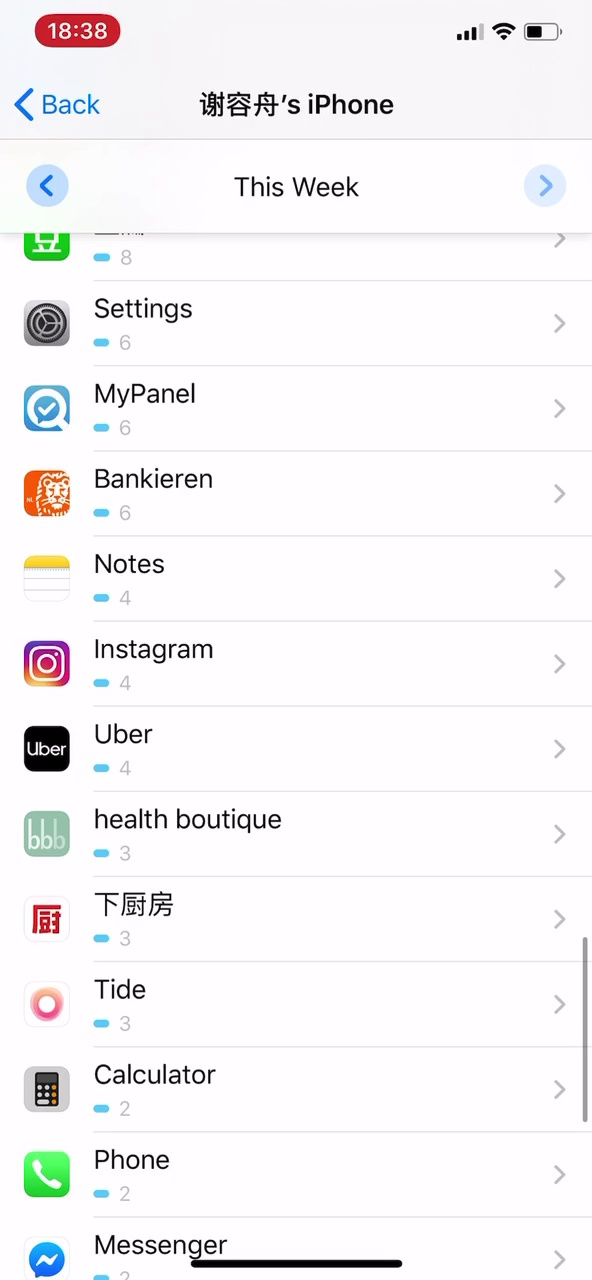pick_app: (20, 793, 315, 874), (15, 456, 241, 538), (14, 628, 239, 702), (18, 1052, 231, 1130), (17, 371, 223, 450), (18, 279, 209, 364), (23, 879, 221, 960), (18, 1136, 204, 1219), (15, 705, 186, 794), (14, 544, 186, 622), (20, 967, 186, 1038)
week: (227, 169, 370, 205)
